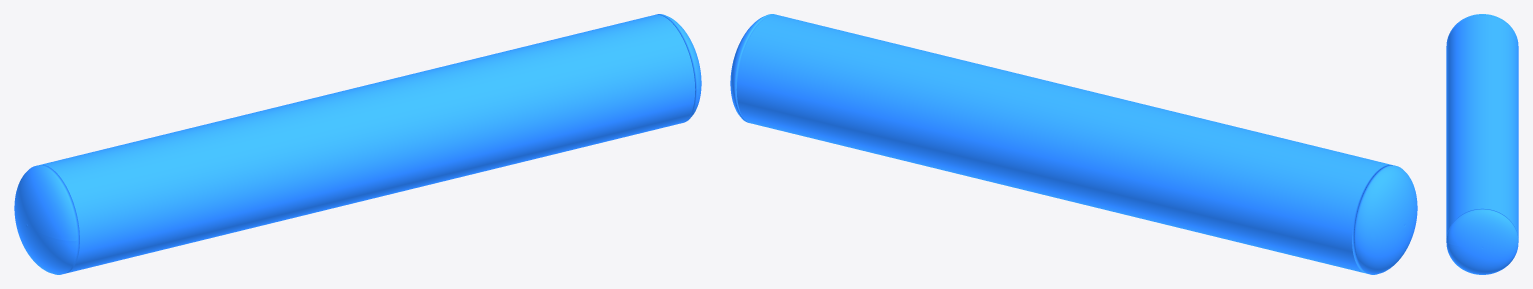
File: x_lox.glb
3 renders of one model, left to right at view 1: azimuth 30°, elevation 25°; view 2: azimuth 150°, elevation 25°; view 3: azimuth 270°, elevation 25°, orthographic. The views are drawn at different scales.
Size of the model in its own units: 24.28 by 3.56 by 3.56.
